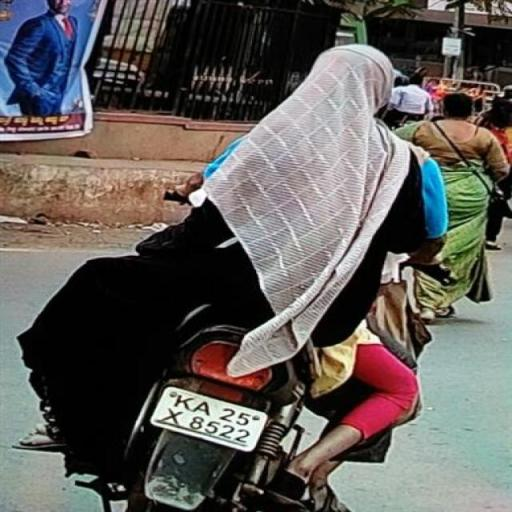tripple riding: (138, 41, 457, 363)
